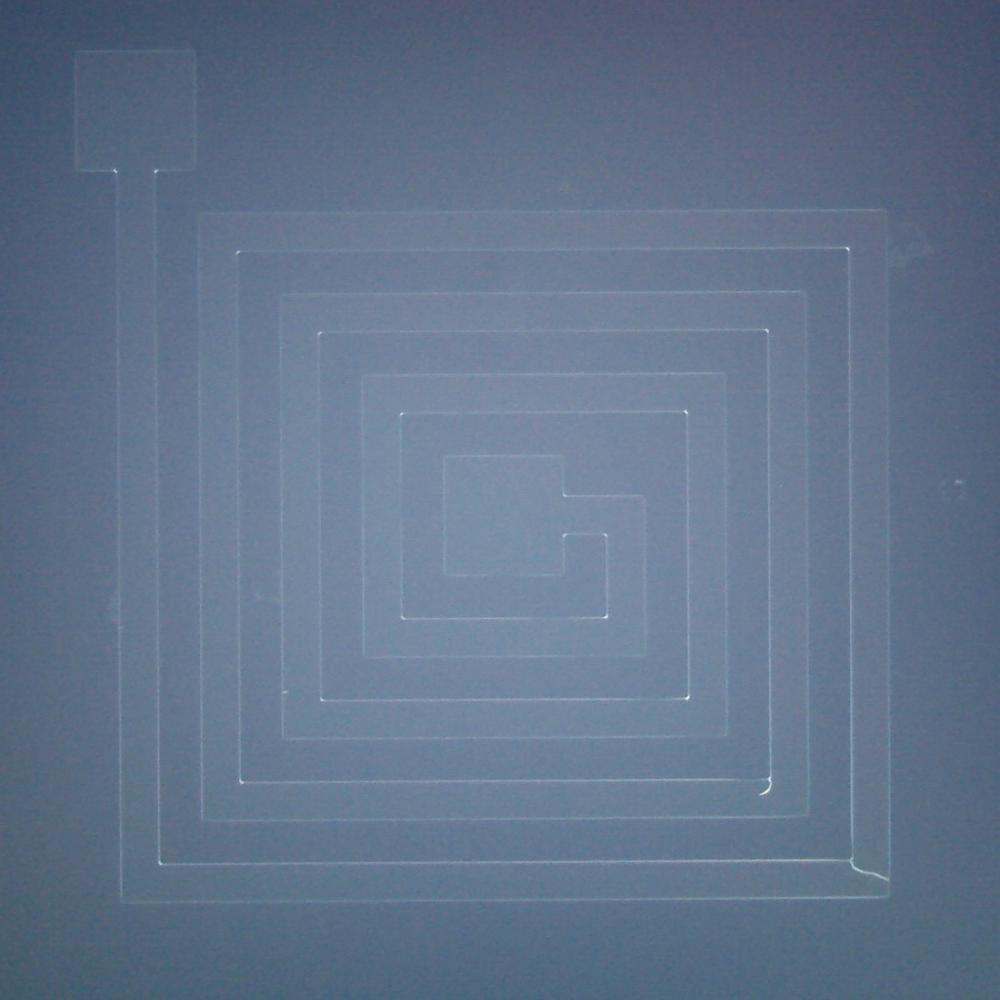line: (848, 856, 890, 882), (750, 773, 784, 802)
